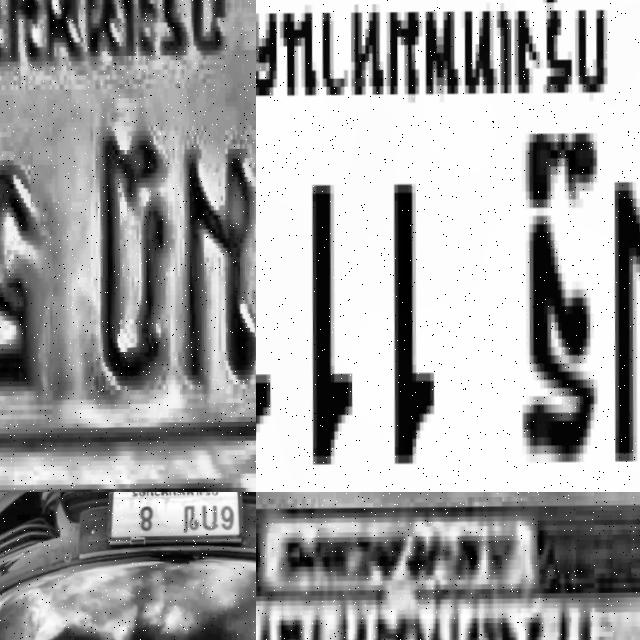license-plate: (256, 0, 640, 492), (0, 0, 256, 492), (256, 505, 640, 640), (95, 492, 254, 557)
